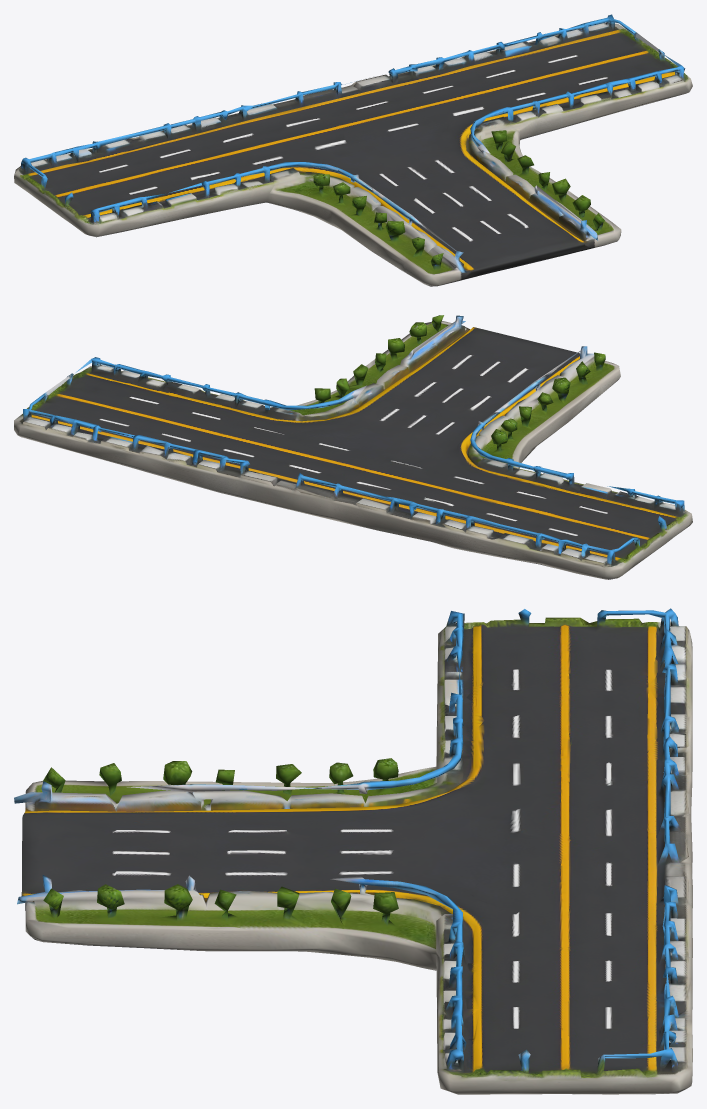
Rendered from tpoint-road.glb.
3 renders of one model, top to bottom at view 1: azimuth 30°, elevation 25°; view 2: azimuth 150°, elevation 25°; view 3: azimuth 270°, elevation 25°, orthographic. The views are drawn at different scales.
Visible parts, largest first — view 1: tripo_node_d99851cf-1a93-43ee-8204-c509448fddd7; view 2: tripo_node_d99851cf-1a93-43ee-8204-c509448fddd7; view 3: tripo_node_d99851cf-1a93-43ee-8204-c509448fddd7.
Part boxes in pixels (box(x1,y1,x2,y2)): tripo_node_d99851cf-1a93-43ee-8204-c509448fddd7: box(14, 14, 692, 286); tripo_node_d99851cf-1a93-43ee-8204-c509448fddd7: box(14, 315, 692, 579); tripo_node_d99851cf-1a93-43ee-8204-c509448fddd7: box(14, 608, 692, 1094).
Bounding box in the file's own units: 1 × 0.0577 × 0.6277.
1 material, 1 textured.
